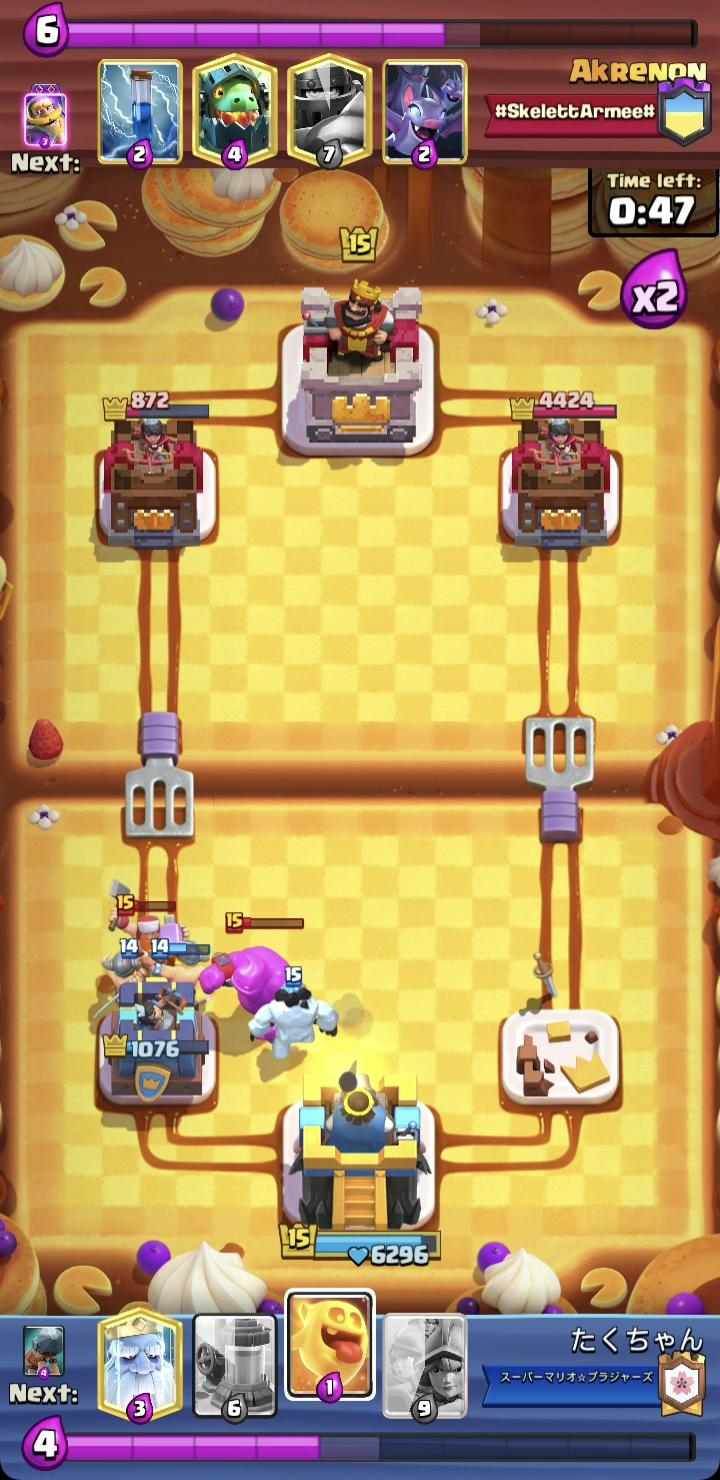ally_elite_barbarian: (90, 936, 160, 1019), (151, 936, 217, 1020)
ally_ice_golem: (245, 961, 341, 1060)
enemy_elixirgolem: (197, 911, 298, 1046)
enemy_lumberjack: (107, 875, 196, 977)
